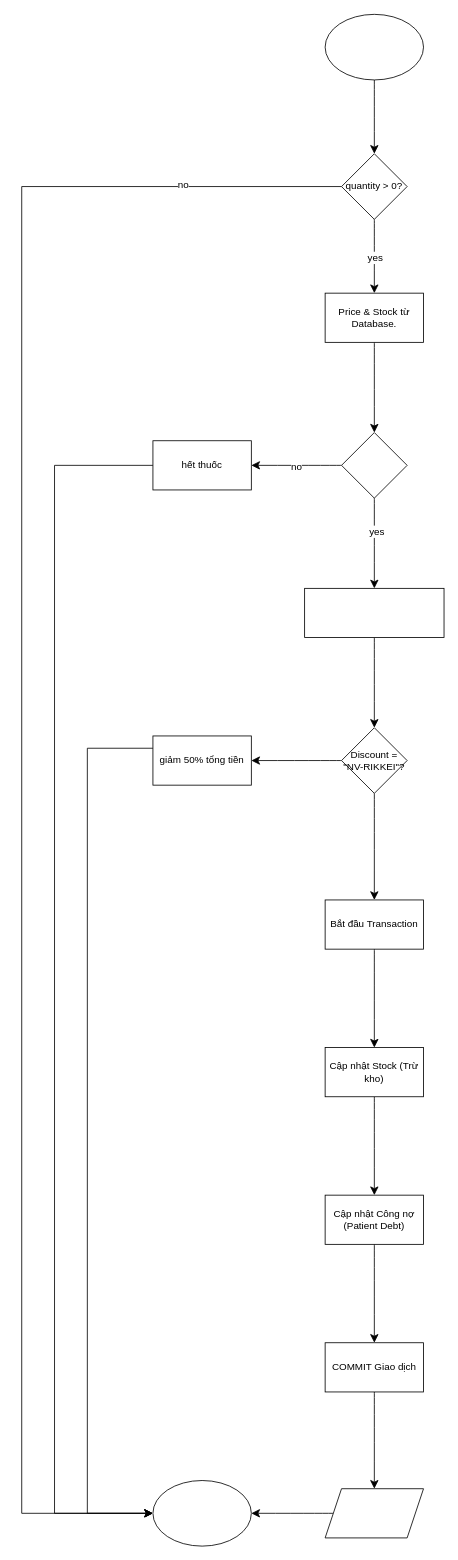
This 458x1560 diagram has some shape labels left out. The shapes that lost their labels are listed below. From the top down, each one's box as (x1, y1, x2, y2) in pixels, then its label:
(324, 14, 424, 80): bắt đầu
(341, 432, 407, 498): đủ tồn kho
(304, 588, 444, 638): Thành tiền = Quantity * Price
(152, 1480, 251, 1546): kết thúc
(324, 1488, 424, 1538): thông báo thành công
